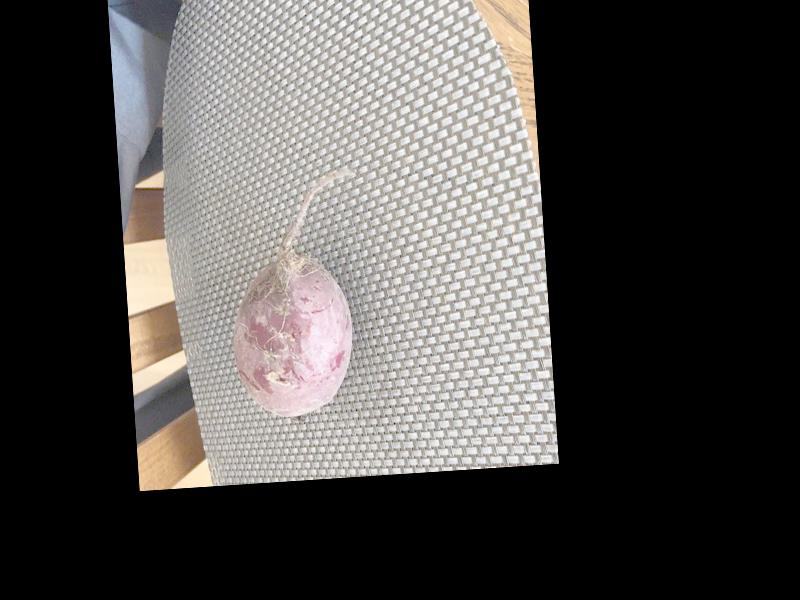Beet: (221, 167, 370, 417)
